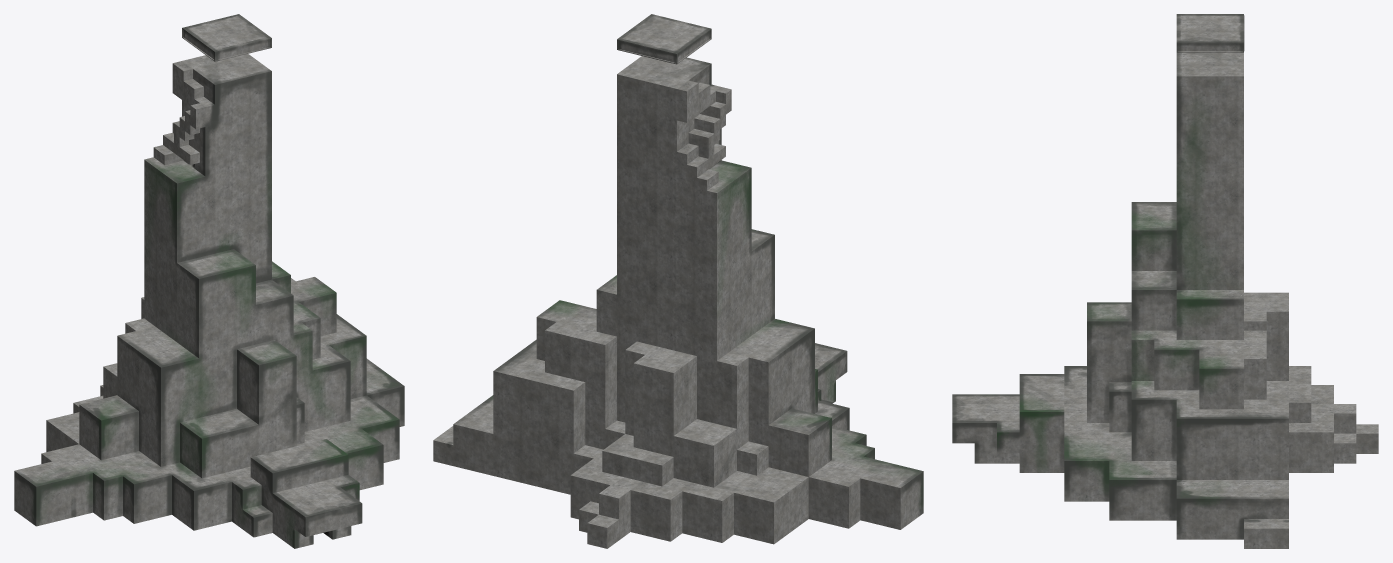
File: Temple.FBX
The picture shows the model from 3 angles, left to right: view 1: azimuth 30°, elevation 25°; view 2: azimuth 150°, elevation 25°; view 3: azimuth 270°, elevation 25°; orthographic projection. The views are drawn at different scales.
Parts seen in each view (by area): view 1: Temple full; view 2: Temple full; view 3: Temple full.
Part boxes in pixels (bbox=[...]): Temple full: bbox=[14, 14, 404, 548]; Temple full: bbox=[433, 14, 923, 548]; Temple full: bbox=[952, 14, 1378, 548].
Size of the model in its own units: 4199 by 4233 by 3800.
